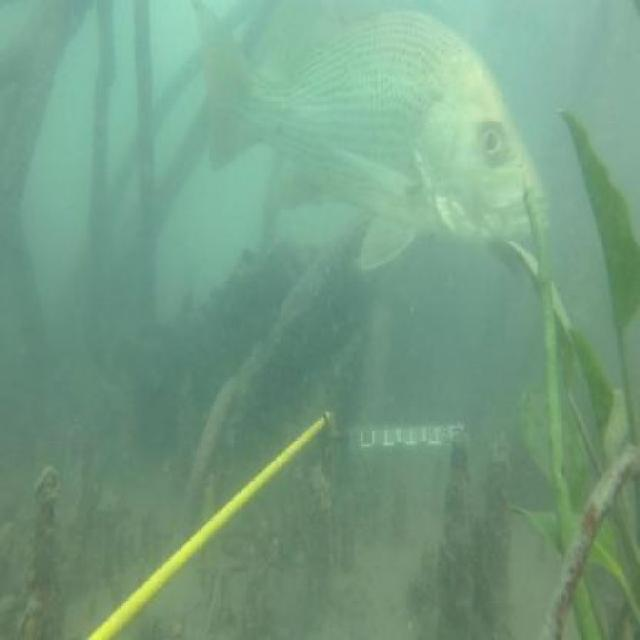lutjanus_johnii: (192, 1, 550, 274)
